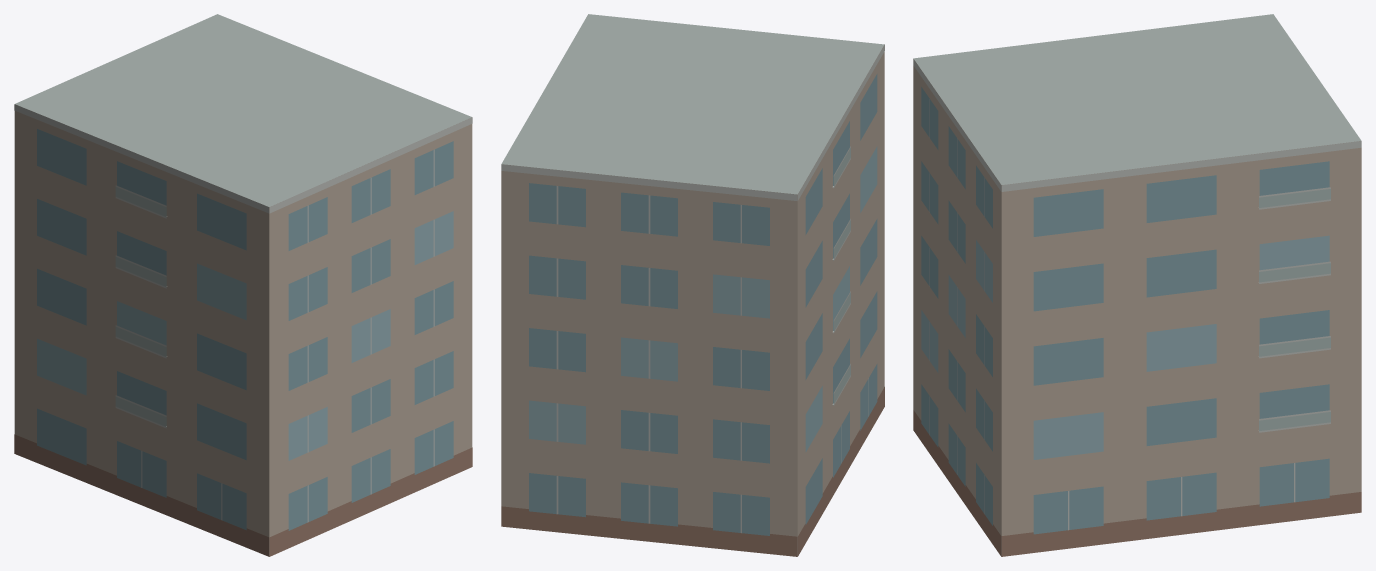
The model's file is survey-upis-32745593.glb.
The picture shows the model from 3 angles, left to right: view 1: azimuth 30°, elevation 25°; view 2: azimuth 150°, elevation 25°; view 3: azimuth 270°, elevation 25°; orthographic projection. The views are drawn at different scales.
Parts seen in each view (by area): view 1: survey-upis-32745593.tmp; view 2: survey-upis-32745593.tmp; view 3: survey-upis-32745593.tmp.
Part boxes in pixels (box(x1,y1,x2,y2)): survey-upis-32745593.tmp: box(14, 14, 472, 556); survey-upis-32745593.tmp: box(501, 14, 884, 556); survey-upis-32745593.tmp: box(913, 14, 1361, 556).
Bounding box in the file's own units: 13.05 × 13.2 × 14.44.
